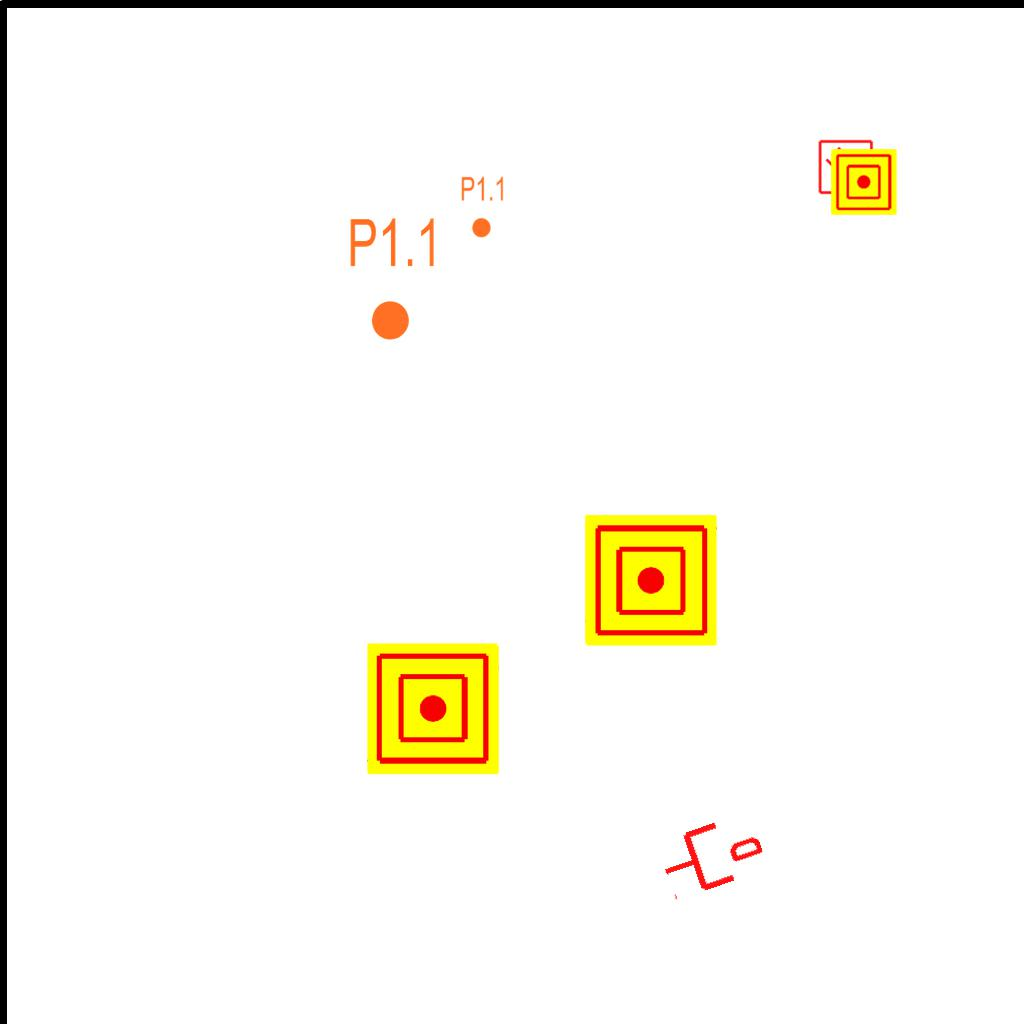Datenanschluss_einfach: (652, 807, 771, 905)
Downlight_LED_Einbauleuchten_Flur: (347, 215, 440, 343), (460, 175, 506, 239)
NAM-Nichtautomatischer_Melder: (367, 643, 499, 775), (585, 514, 717, 646), (831, 149, 897, 215)
RMO_Rauchmelder_optischer: (818, 139, 874, 195)
